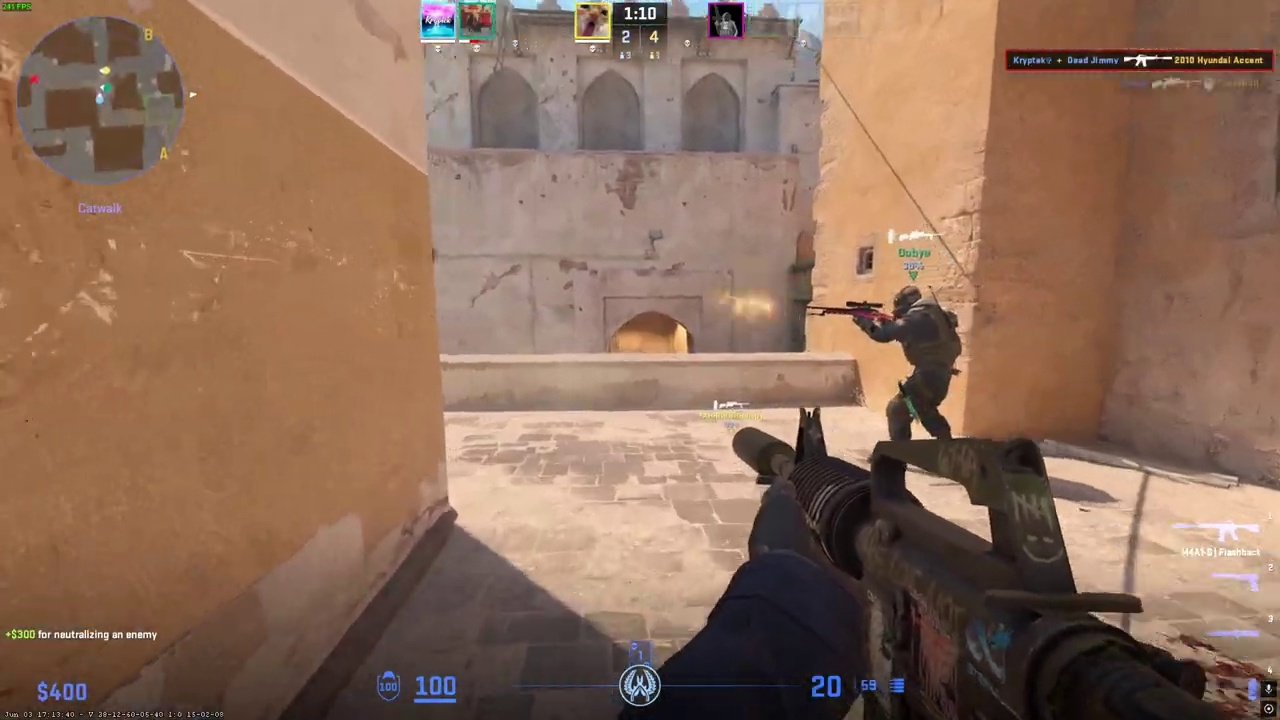CT: (879, 285, 962, 441)
